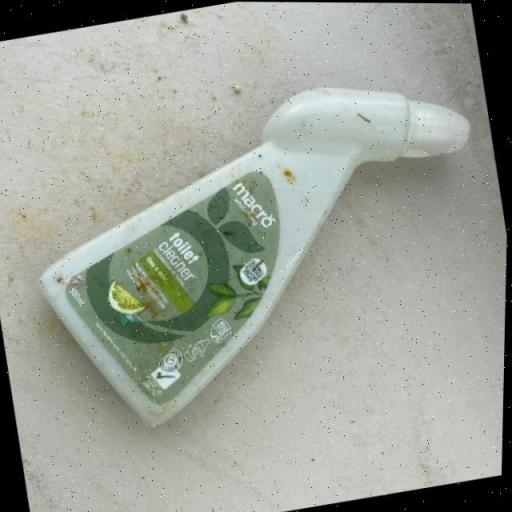plastic: (11, 57, 511, 445)
